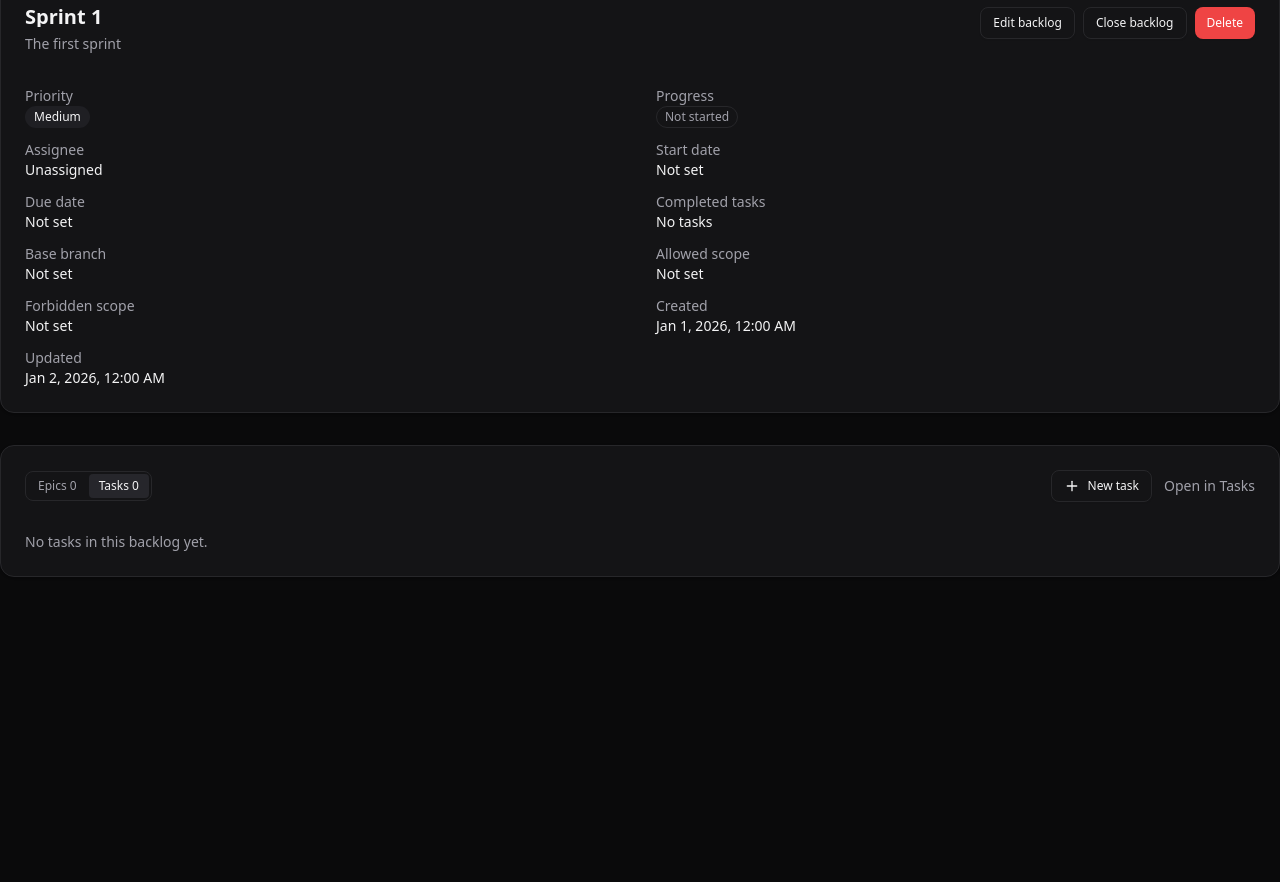
Test: BacklogDetail › keeps the backlog unchanged when the edit is cancelled
Click the button "Edit backlog" at (1028, 23), box [980,7,1075,39]
(page scrolled)
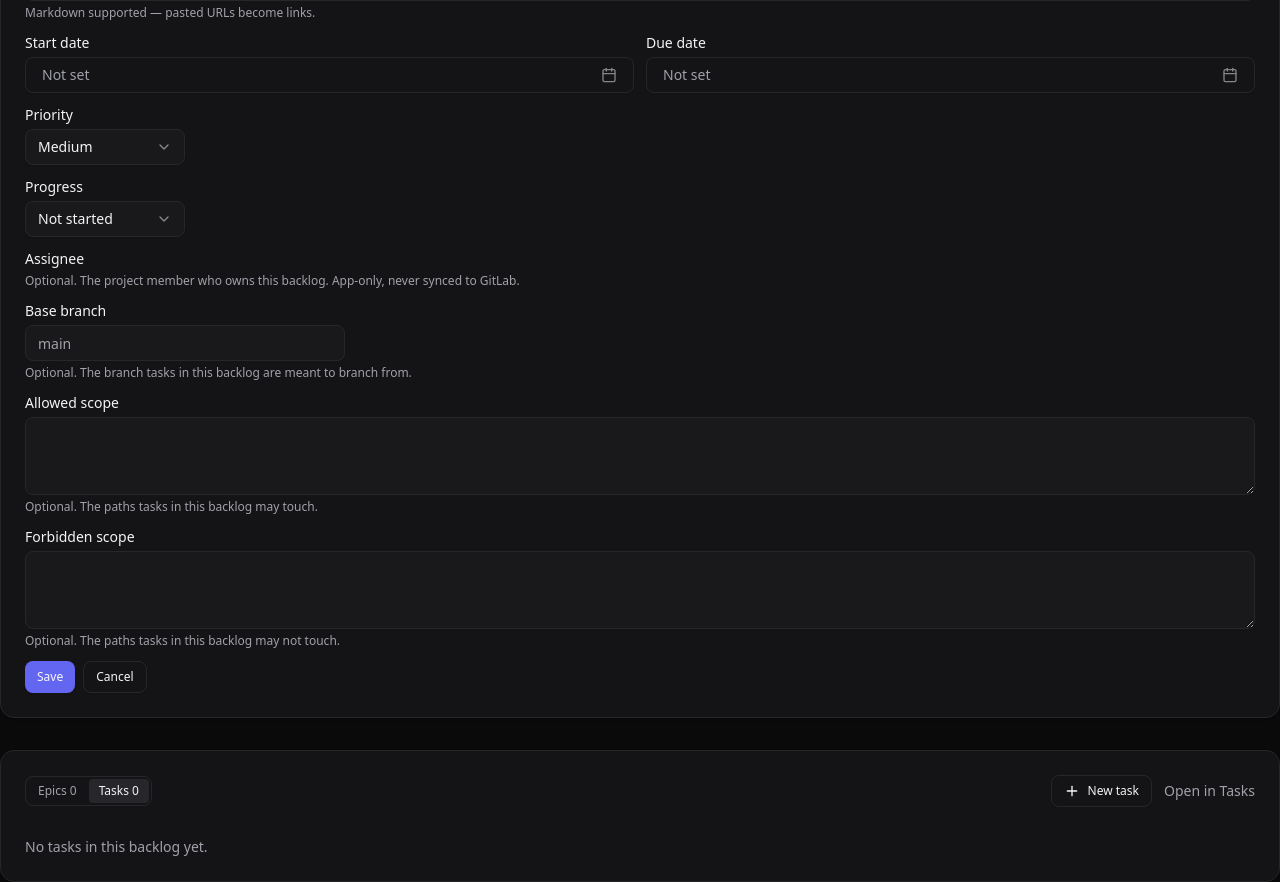
Click the button "Cancel" at (115, 677), box [83,661,147,693]
(page scrolled)
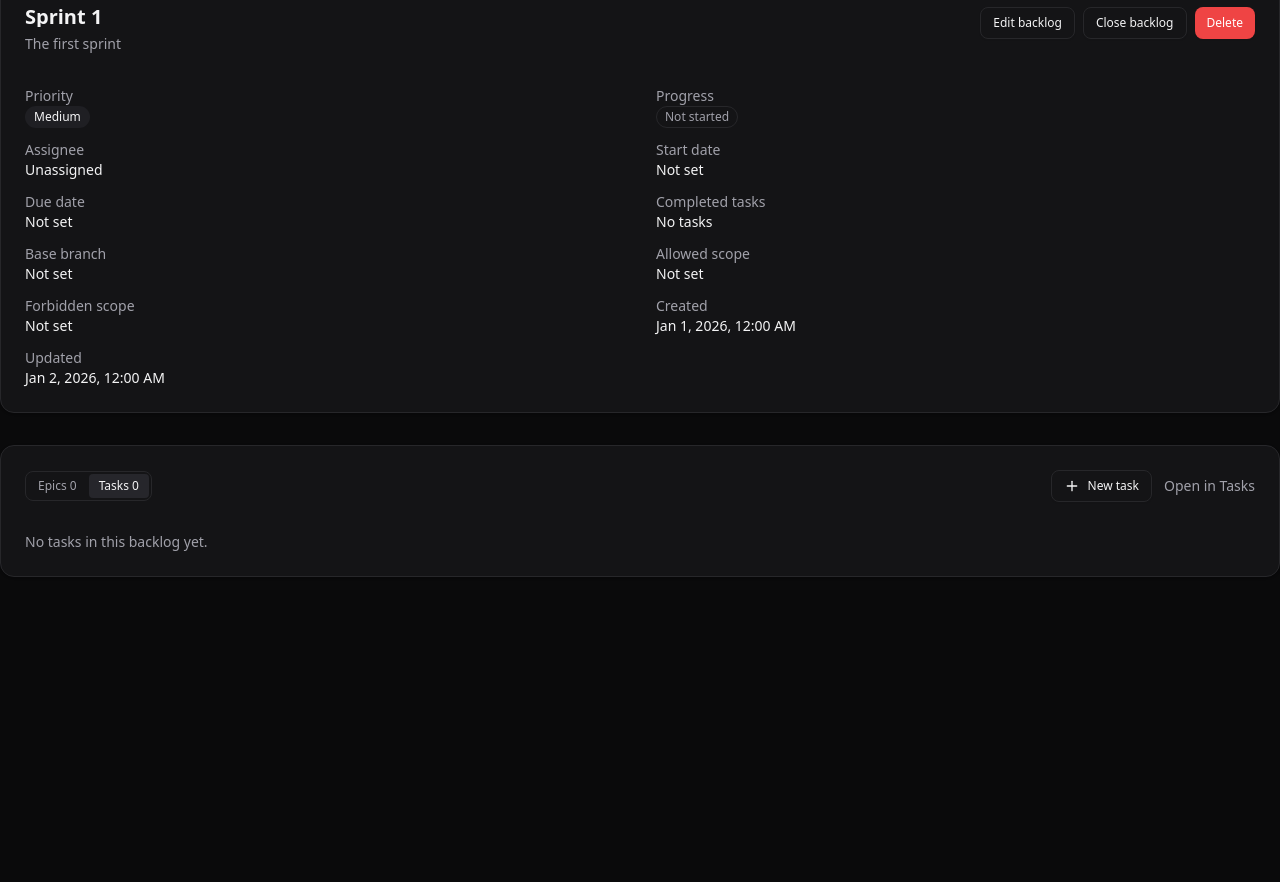
Expected: the heading "Sprint 1" is shown, [25,7,102,27]
